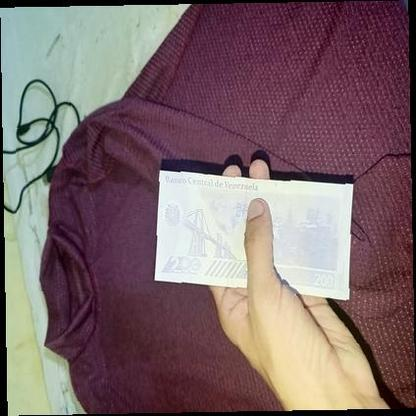two_hundred-back-vef: (153, 170, 353, 300)
